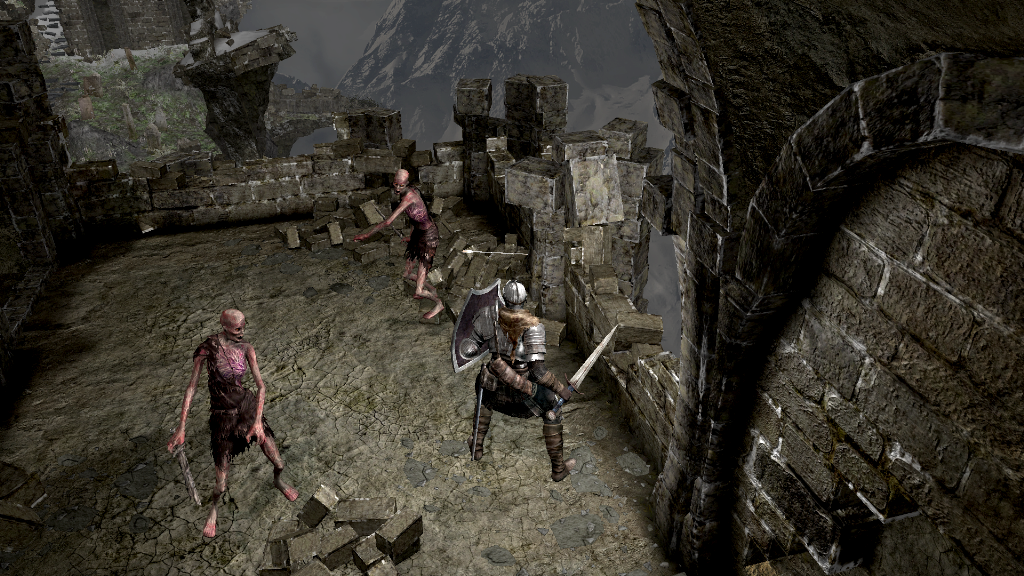hollow: (167, 307, 299, 537), (355, 167, 447, 319)
player: (451, 278, 621, 485)
